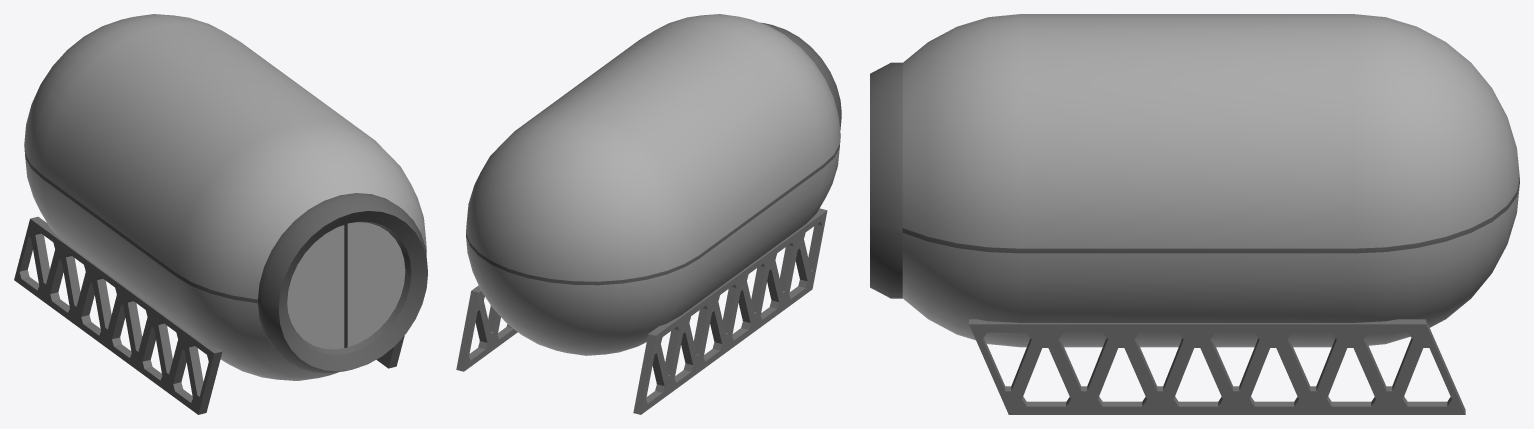
File: House Long.glb
3 views of the same model, side by side, from view 1: azimuth 30°, elevation 25°; view 2: azimuth 150°, elevation 25°; view 3: azimuth 270°, elevation 25° (orthographic). The views are drawn at different scales.
Parts seen in each view (by area): view 1: House_Long; view 2: House_Long; view 3: House_Long.
Part boxes in pixels (x1,y1,x2,y2): House_Long: [14, 14, 427, 414]; House_Long: [456, 14, 841, 414]; House_Long: [870, 14, 1519, 414].
Bounding box in the file's own units: 3.99 × 4.31 × 7.79.
Materials: 1 (1 with a texture image).
